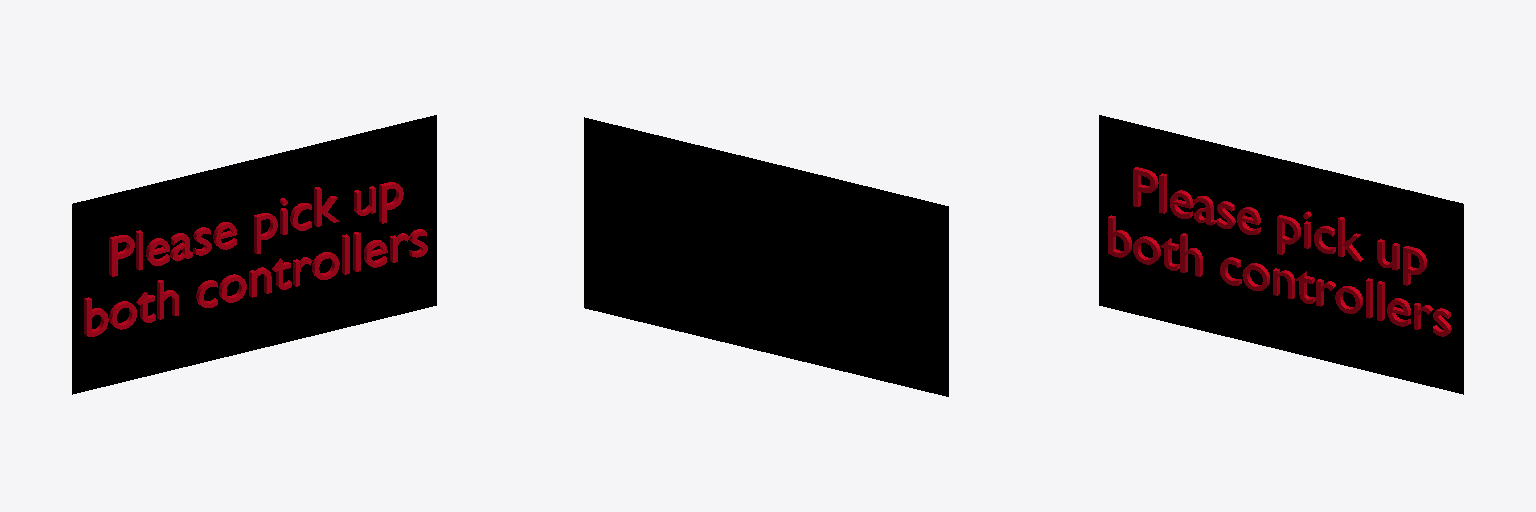
Rendered from controllers_banner2.obj.
3 views of the same model, side by side, from view 1: azimuth 30°, elevation 25°; view 2: azimuth 150°, elevation 25°; view 3: azimuth 330°, elevation 25° (orthographic).
Parts seen in each view (by area): view 1: controllers_banner; view 2: controllers_banner; view 3: controllers_banner.
Part boxes in pixels (bbox=[...]): controllers_banner: bbox=[72, 115, 436, 394]; controllers_banner: bbox=[584, 117, 948, 396]; controllers_banner: bbox=[1099, 115, 1463, 394].
Bounding box in the file's own units: 4 × 2 × 0.0643.